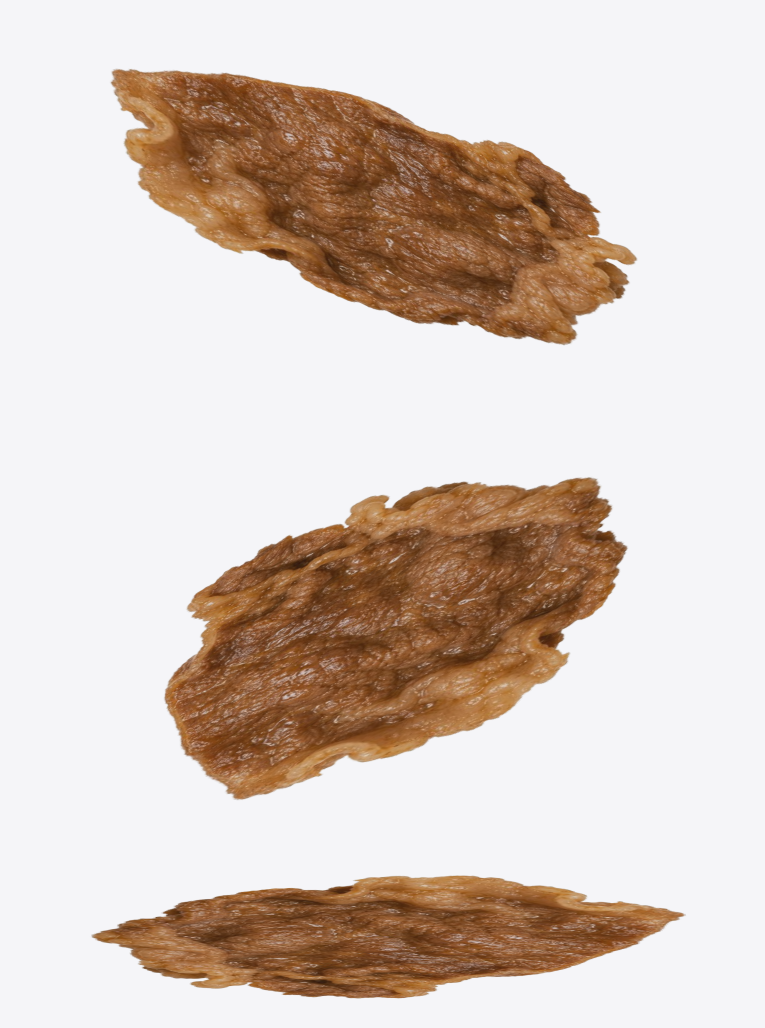
The model's file is gyudon_niku.glb.
3 renders of one model, top to bottom at view 1: azimuth 30°, elevation 25°; view 2: azimuth 150°, elevation 25°; view 3: azimuth 270°, elevation 25°, orthographic. The views are drawn at different scales.
Visible parts, largest first — view 1: niku; view 2: niku; view 3: niku.
Boxes of the visible parts, x1,y1,x2,y2 form: niku: (110, 69, 637, 345); niku: (164, 477, 627, 799); niku: (91, 875, 685, 998).
Bounding box in the file's own units: 0.586 × 2.79e-09 × 1.23.
1 material, 1 textured.
